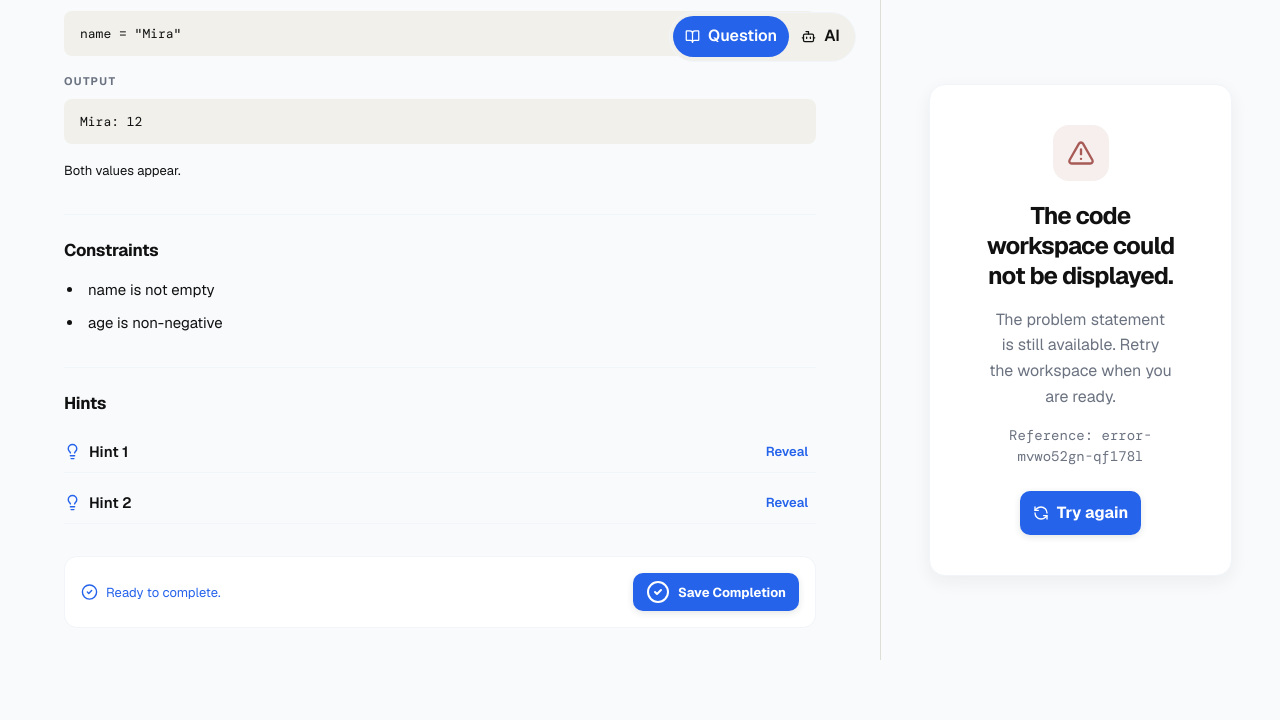
Test: Practice immersive coding workspace › renders any number of hints concealed and reveals them independently
The image size is (1280, 720).
(page scrolled)
Expected: the heading "Hints" is shown, [64,392,106,414]
Expected: the text "Consider the input values." is not shown
Click the 1st button "Reveal". click: (787, 451)
box: [758,432,816,470]
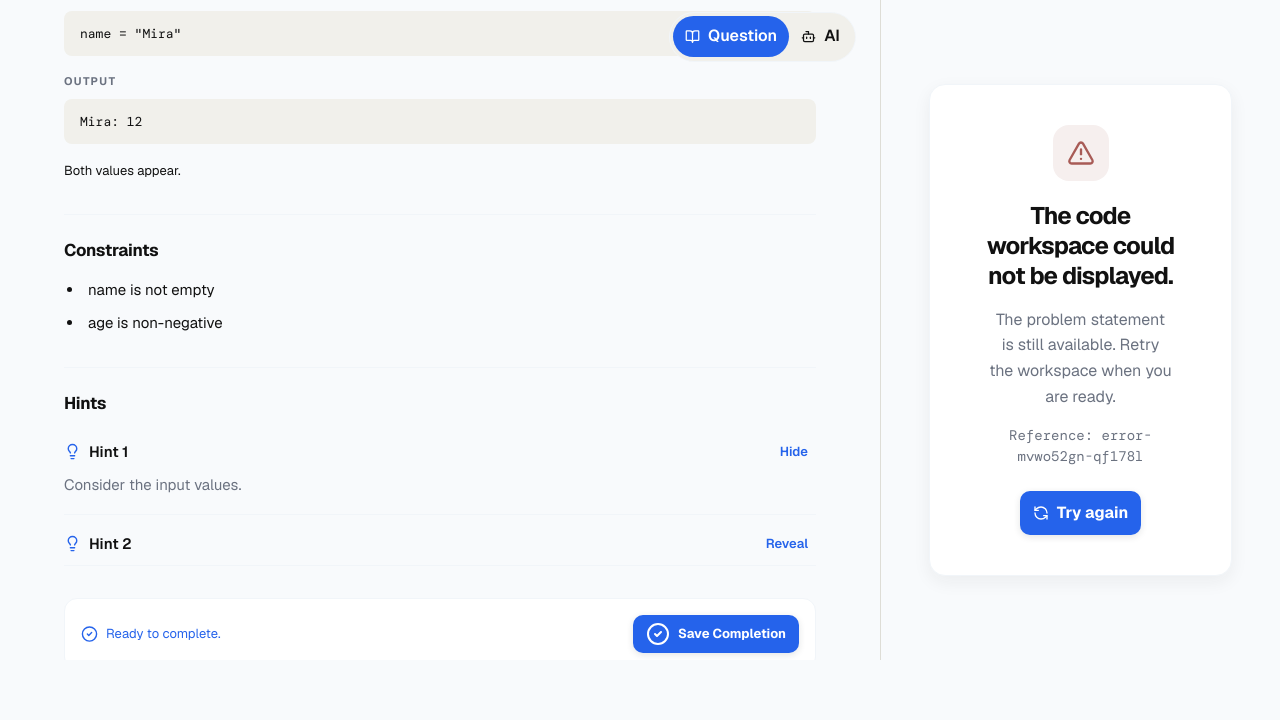
Now the text "Consider the input values." is shown, box [64,476,241,494]
Now the button "Hide" is expanded, box [772,432,816,470]
